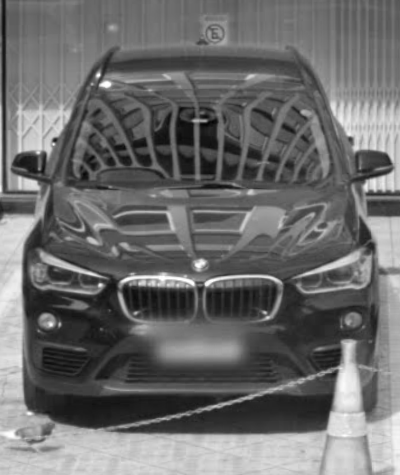car: (20, 45, 391, 428)
